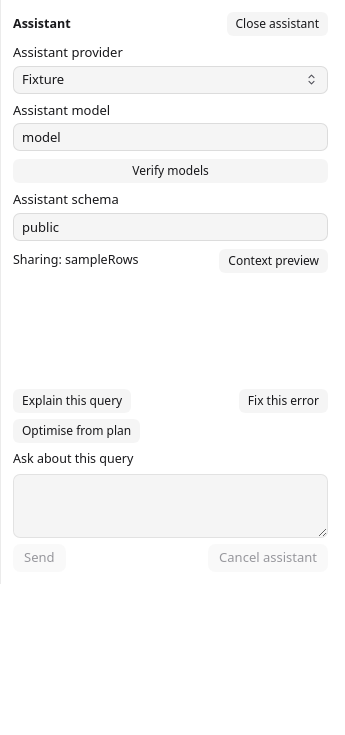
Test case: quick actions share query, fixed last-error code and normalized plan-only evidence
Click the button "Fix this error" at (283, 401), box left=239, top=389, right=328, bottom=413
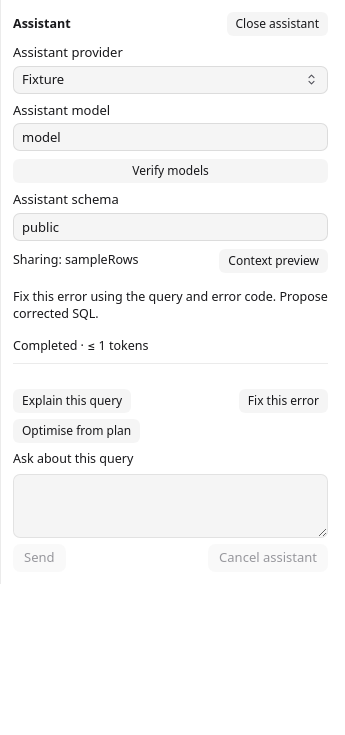
Click the button "Optimise from plan" at (77, 431), box left=13, top=419, right=140, bottom=443
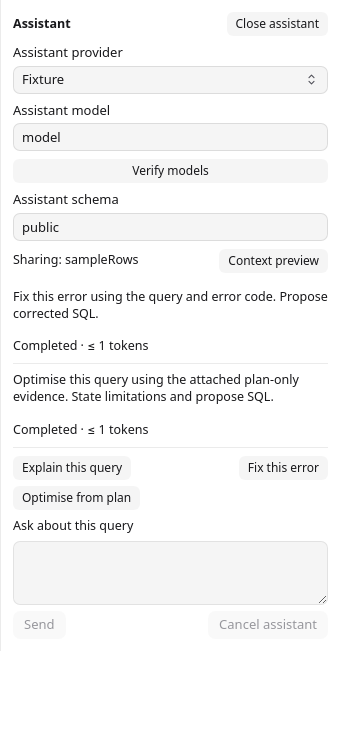
Click the button "Explain this query" at (72, 468), box left=13, top=456, right=131, bottom=480
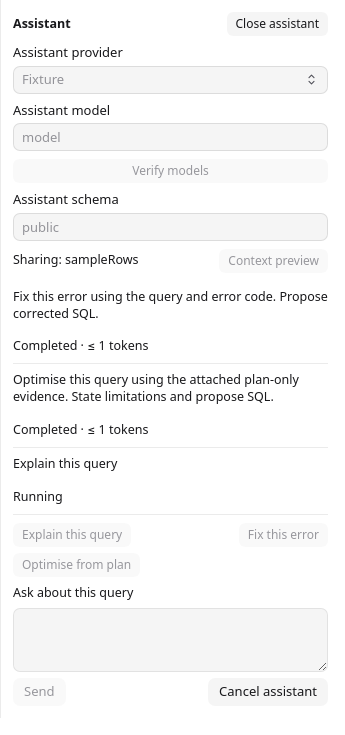
Now the text "Explain this query" is shown, box left=13, top=455, right=117, bottom=472
